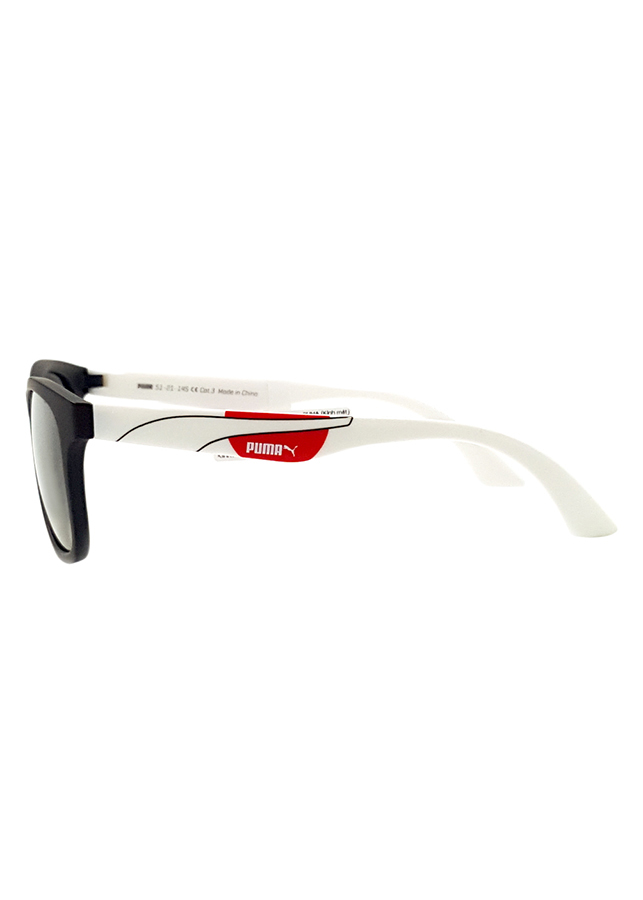Puma: (239, 436, 305, 459)
